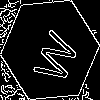W: (25, 25, 81, 87)
